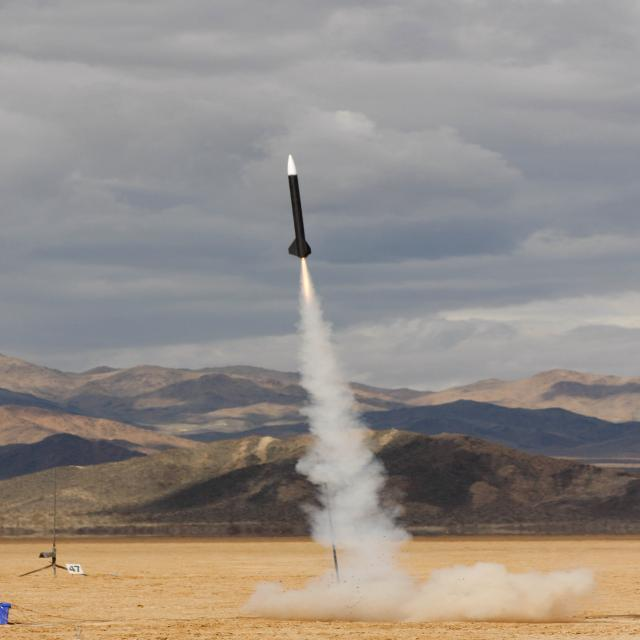Rocket: (286, 154, 312, 259)
